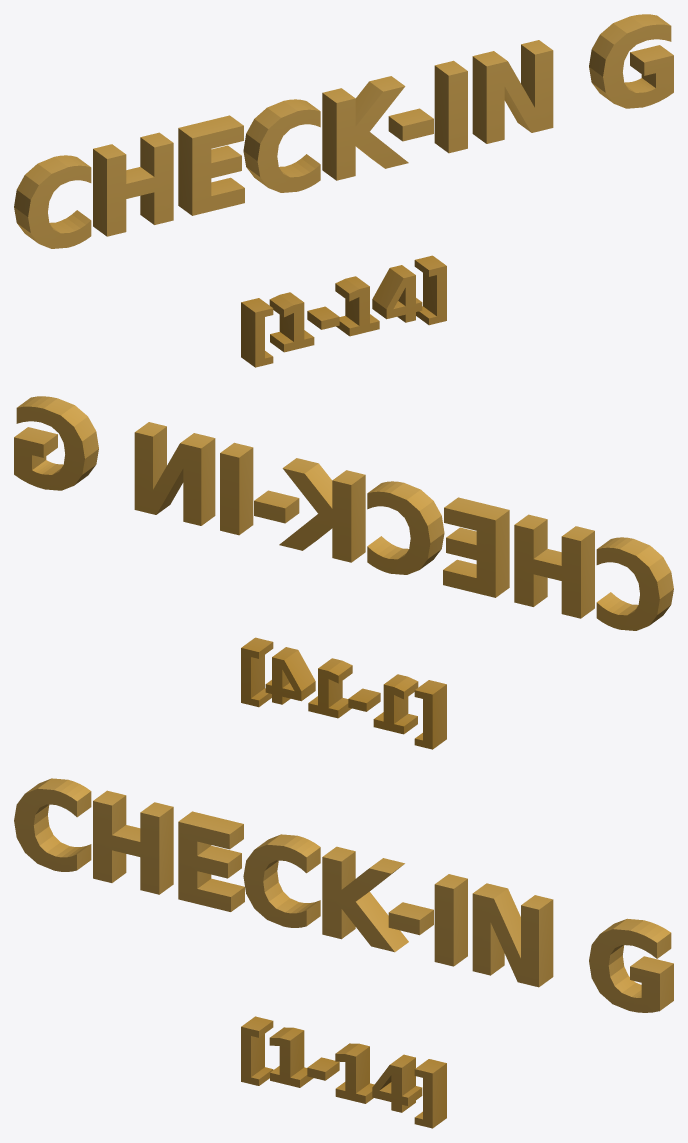
Rendered from CHECK_IN_G_1_14.glb.
The picture shows the model from 3 angles, top to bottom: view 1: azimuth 30°, elevation 25°; view 2: azimuth 150°, elevation 25°; view 3: azimuth 330°, elevation 25°; orthographic projection.
Parts seen in each view (by area): view 1: world; view 2: world; view 3: world.
Part boxes in pixels (x1,y1,x2,y2): world: [14, 14, 673, 367]; world: [14, 396, 673, 749]; world: [14, 778, 673, 1128].
Size of the model in its own units: 15.4 by 5.61 by 0.5825.
